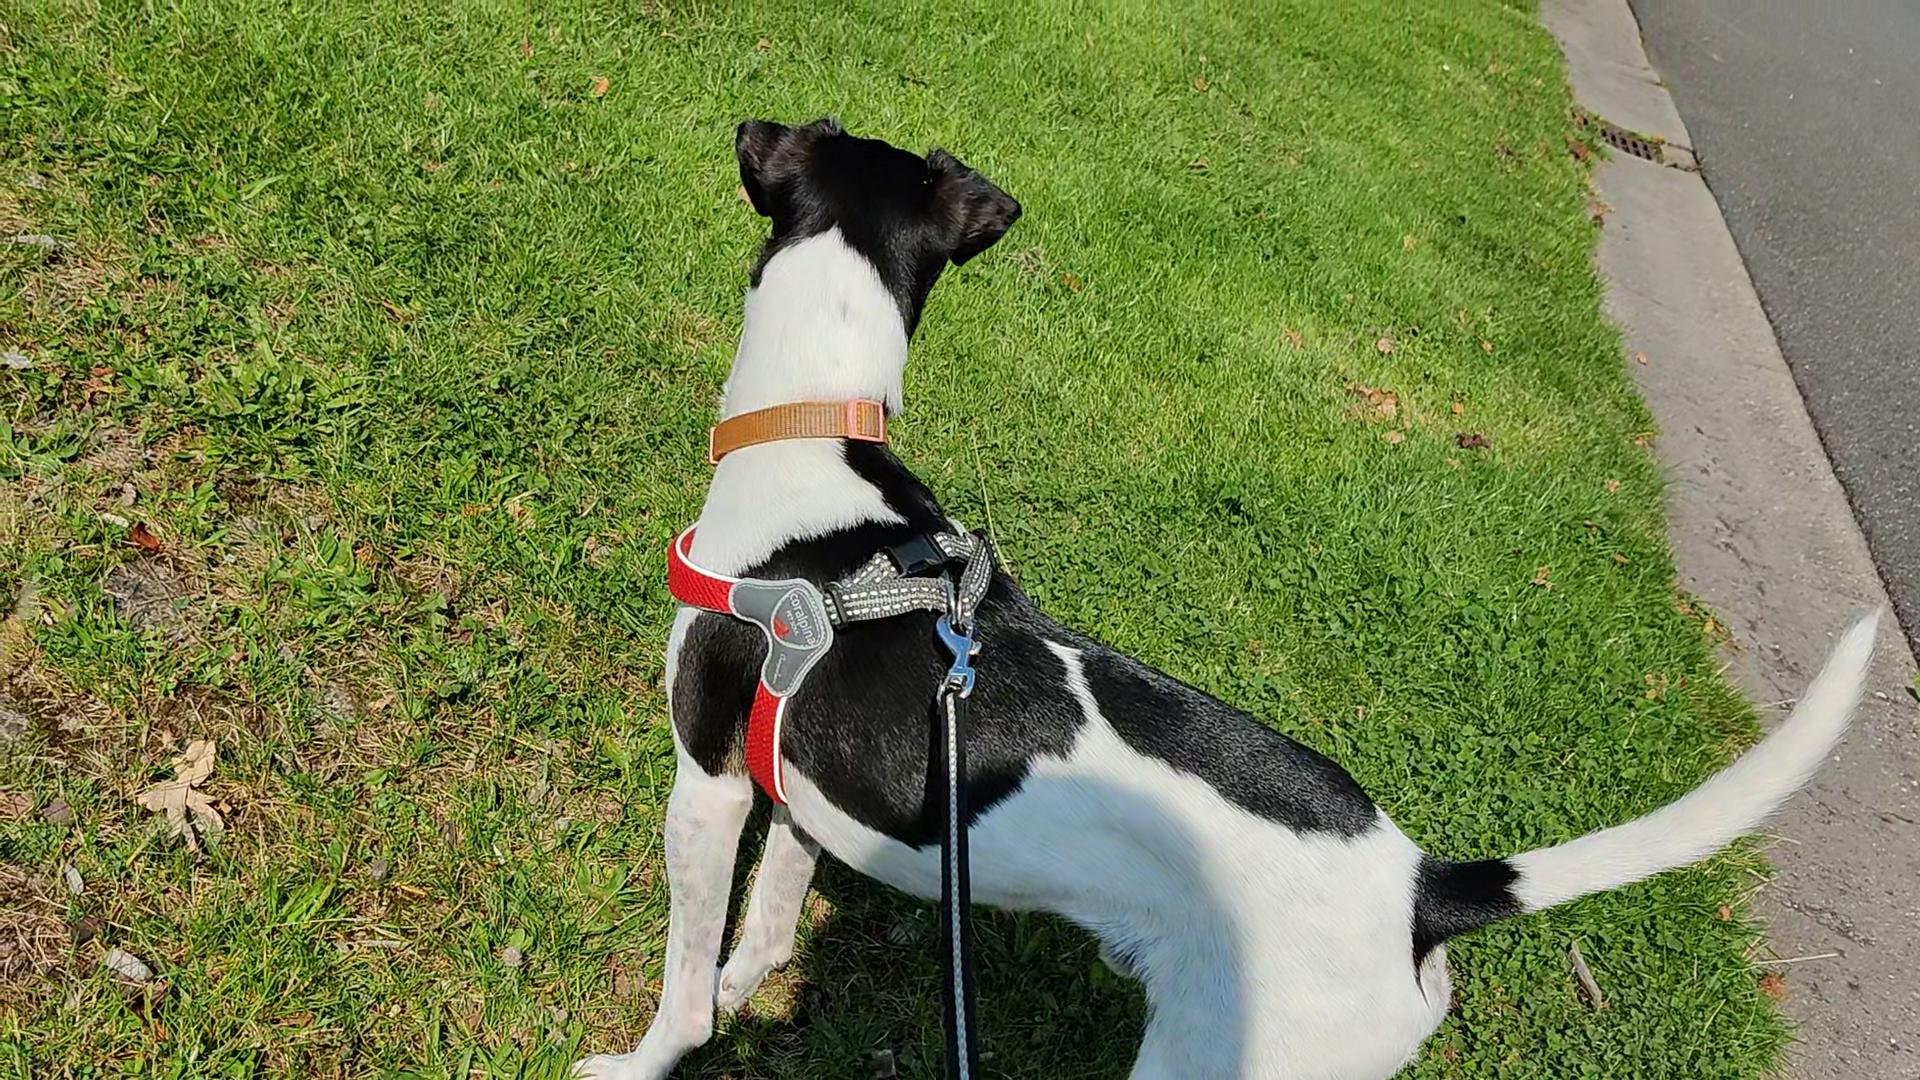Dog: (575, 92, 1892, 1079)
